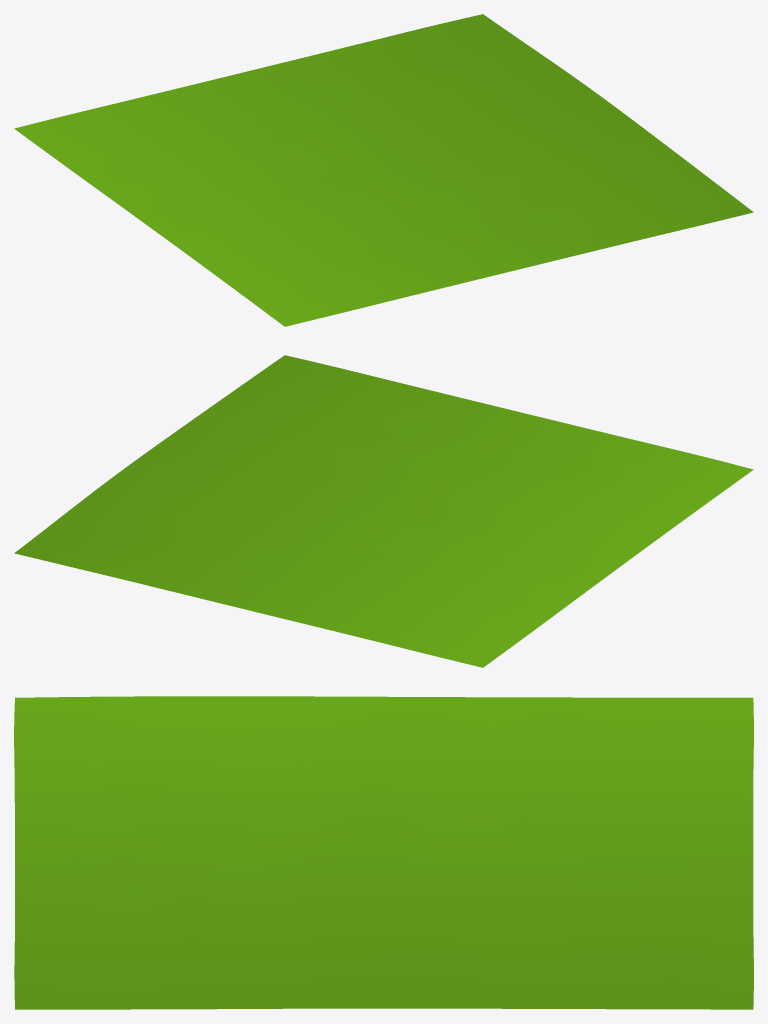
File: terrain.glb
3 views of the same model, one above another, from view 1: azimuth 30°, elevation 25°; view 2: azimuth 150°, elevation 25°; view 3: azimuth 270°, elevation 25° (orthographic). The views are drawn at different scales.
Parts seen in each view (by area): view 1: Plane; view 2: Plane; view 3: Plane.
Boxes of the visible parts, left/top/right/bottom form: Plane: left=14, top=14, right=753, bottom=326; Plane: left=14, top=355, right=753, bottom=667; Plane: left=14, top=696, right=753, bottom=1009.
Bounding box in the file's own units: 846 × 3.18 × 844.
1 material, 1 textured.
